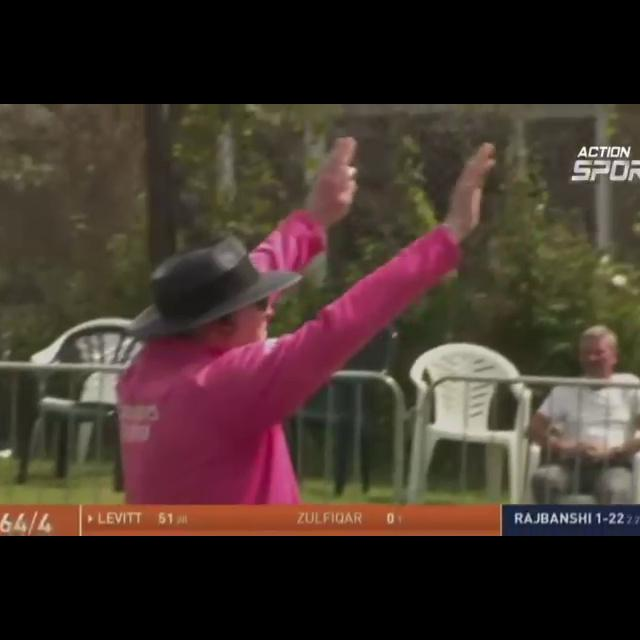umpire: (82, 117, 529, 501)
